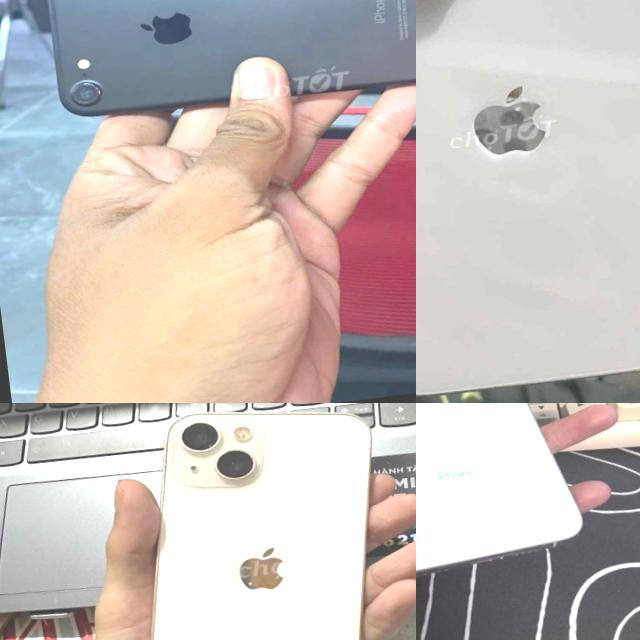gen_12_13: (416, 0, 640, 403), (105, 403, 416, 640)
gen_7_8: (30, 0, 416, 133)
gen_x_xs: (416, 403, 597, 597)
